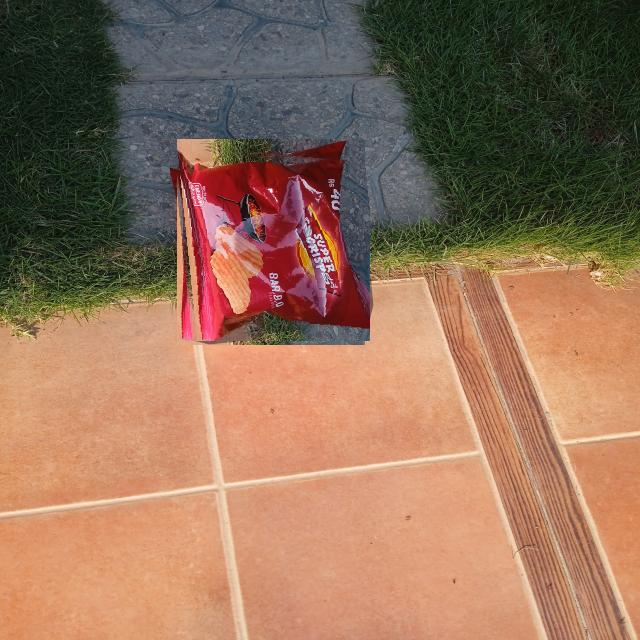Plastic: (172, 144, 370, 341)
